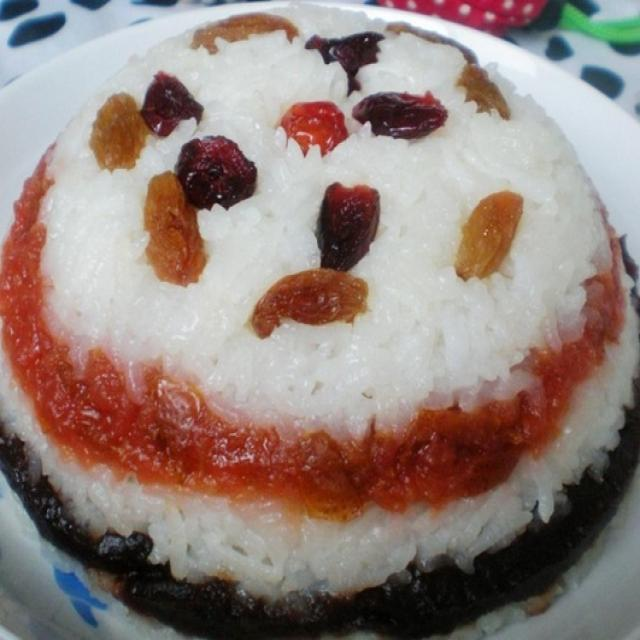米饭主食: (9, 4, 632, 632)
